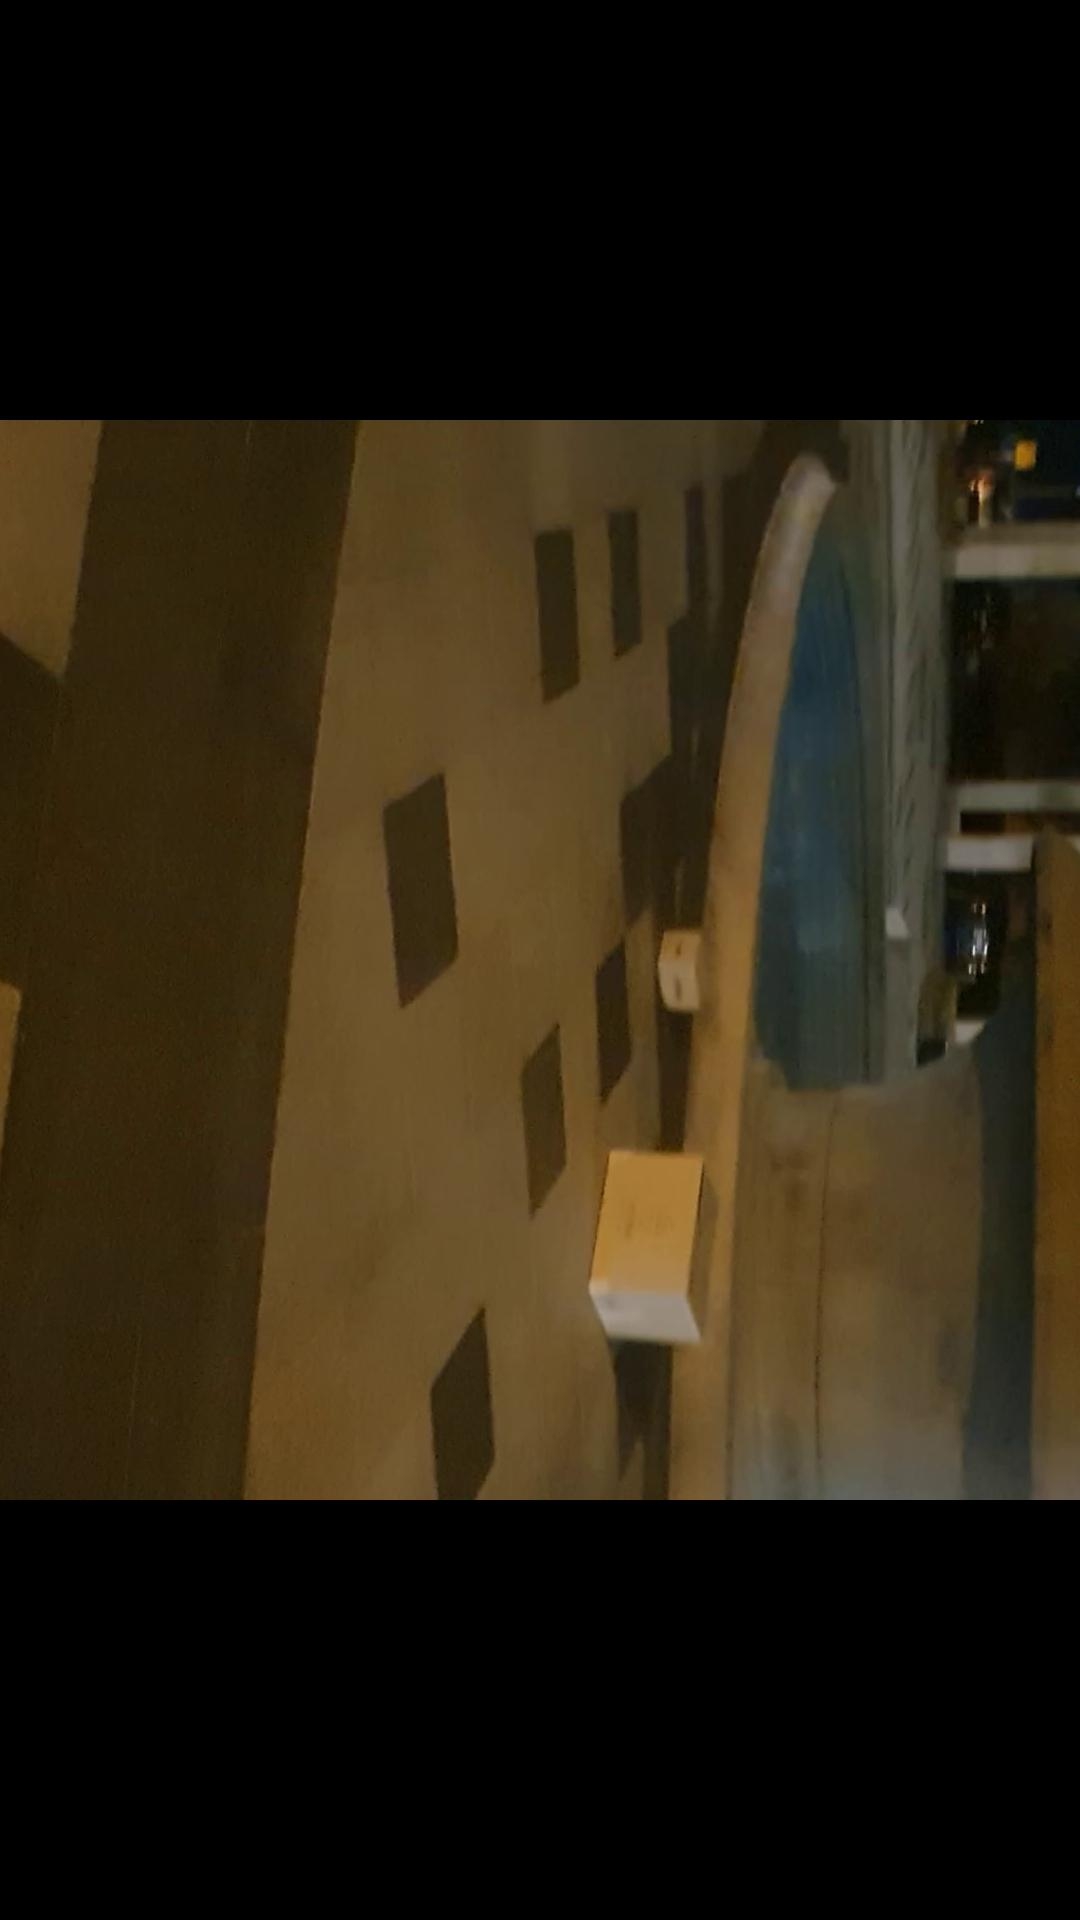Box: (582, 1143, 723, 1344), (650, 923, 717, 1018)
